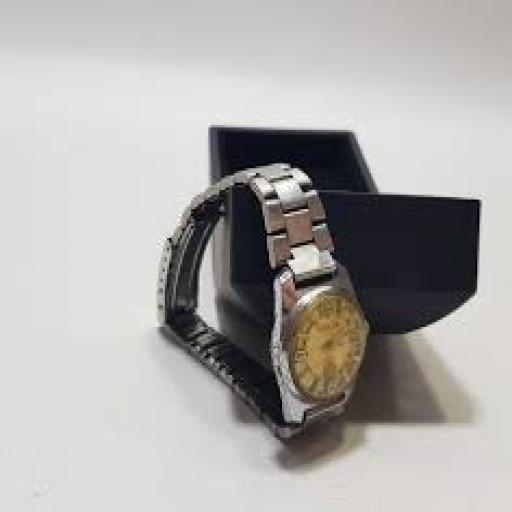KolSaati: (119, 156, 397, 468)
